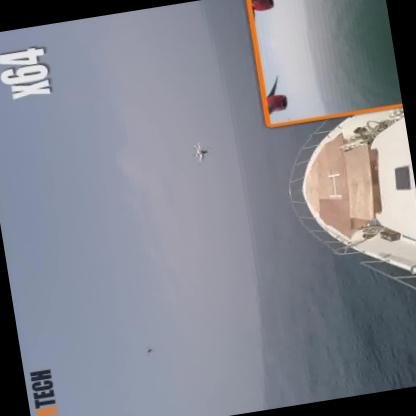drone: (185, 137, 215, 163)
